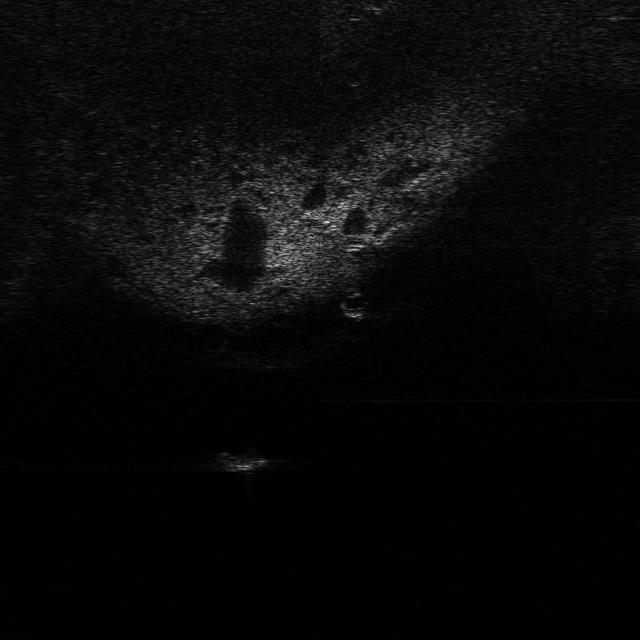ball: (337, 290, 371, 313)
cube: (210, 446, 276, 474)
